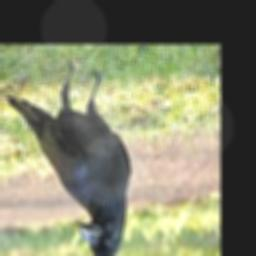Crow: (6, 63, 130, 256)
